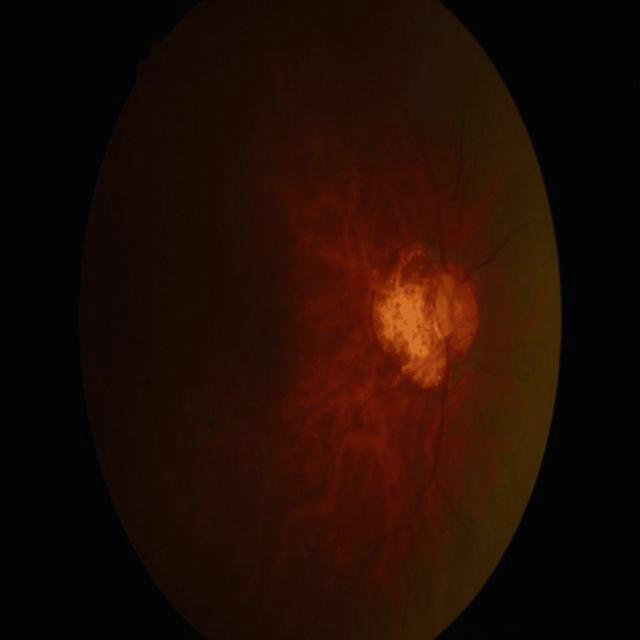cup: (438, 272, 466, 340)
disk: (430, 264, 480, 354)
